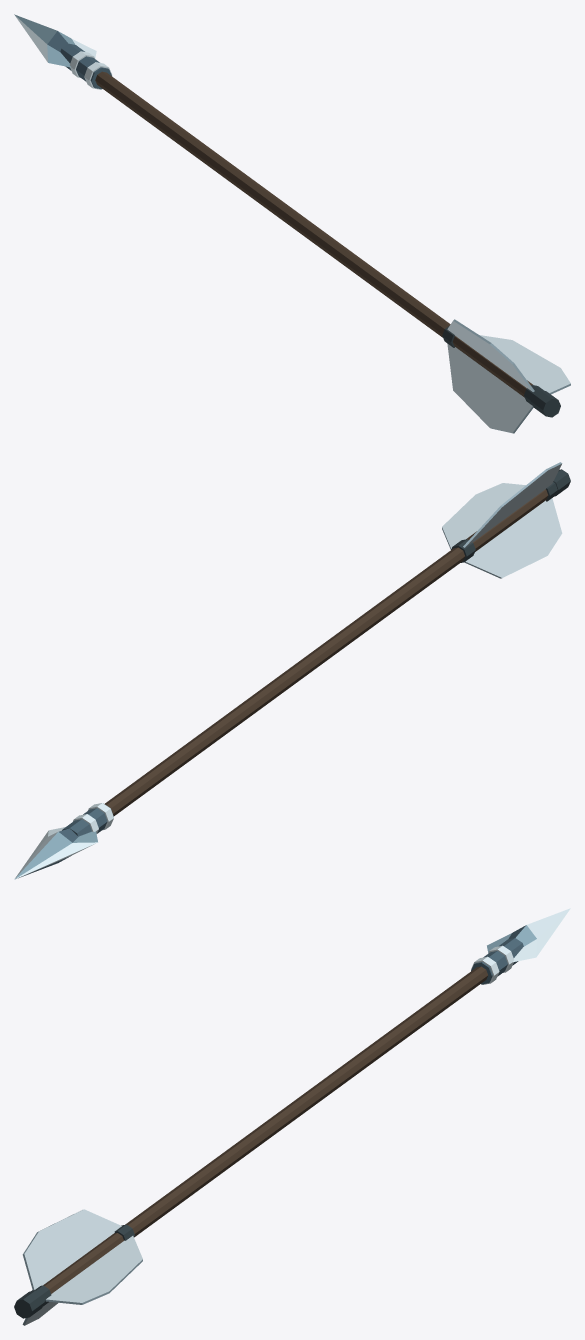
File: titanium_arrow-BmScAYdB.glb
3 renders of one model, top to bottom at view 1: azimuth 30°, elevation 25°; view 2: azimuth 150°, elevation 25°; view 3: azimuth 330°, elevation 25°, orthographic.
Visible parts, largest first — view 1: Titanium_Arrow; view 2: Titanium_Arrow; view 3: Titanium_Arrow.
Boxes of the visible parts, bbox=[...] form: Titanium_Arrow: bbox=[14, 14, 570, 433]; Titanium_Arrow: bbox=[14, 462, 570, 879]; Titanium_Arrow: bbox=[14, 908, 570, 1325].
Bounding box in the file's own units: 0.111 × 0.1279 × 1.46.
